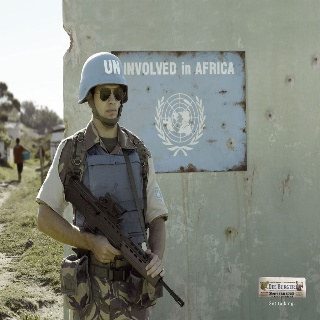rifle: (61, 171, 185, 314)
